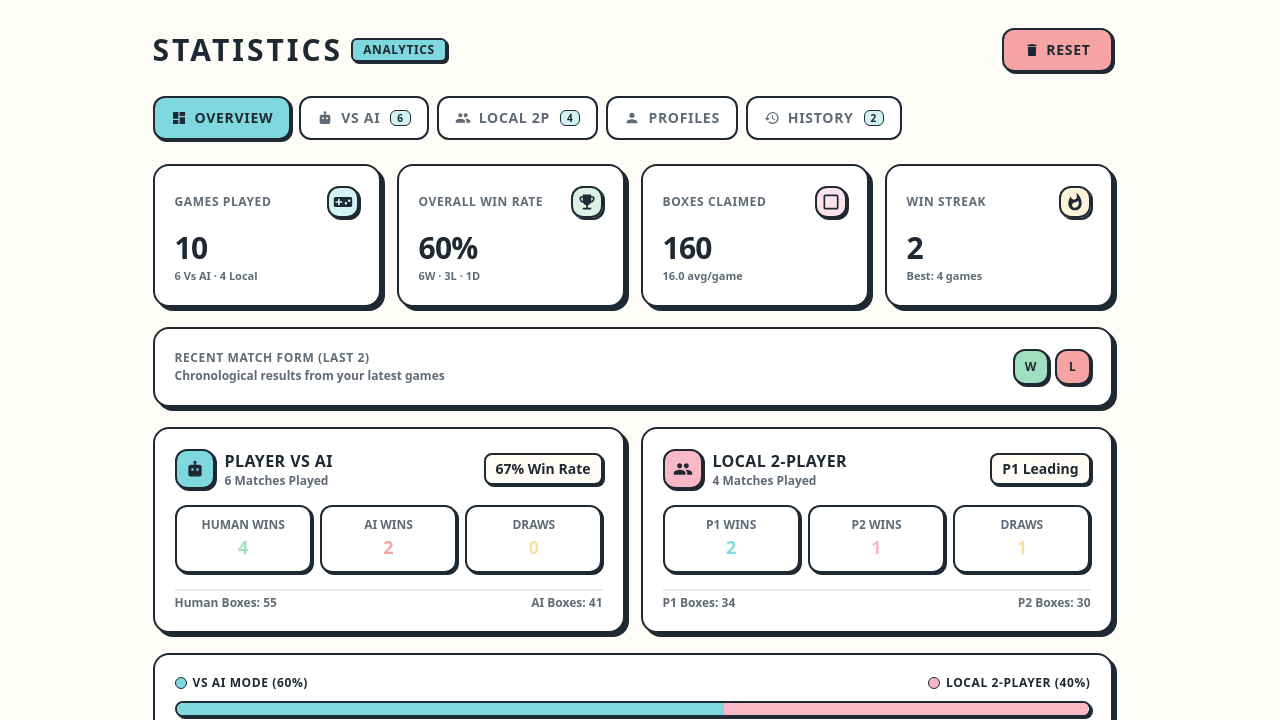
Test: StatisticsScreen Component › switches to Profiles tab and shows all 3 profile cards
The image size is (1280, 720).
Click the tab "Profiles".
click(672, 118)  # box [606,96,738,140]
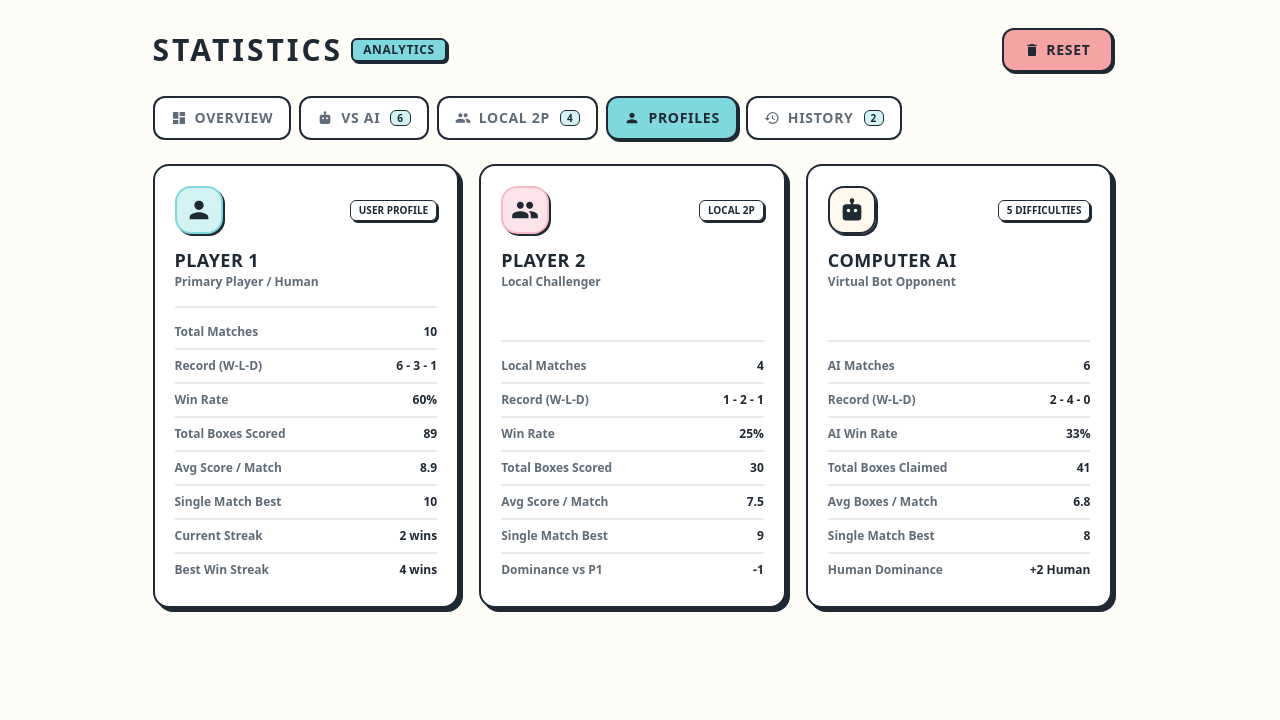
Expected: the heading "Player 1" is shown, [174,248,259,272]
Expected: the text "Primary Player / Human" is shown, [174,273,319,290]
Expected: the heading "Player 2" is shown, [501,248,586,272]
